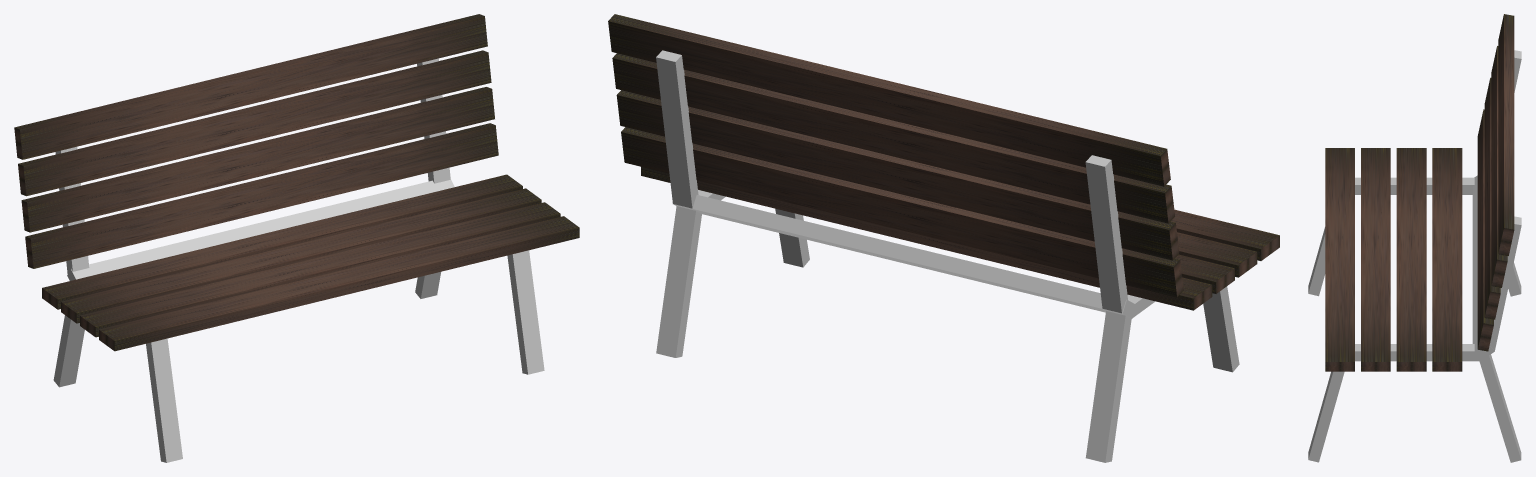
Rendered from bench2.dae.
The picture shows the model from 3 angles, left to right: view 1: azimuth 30°, elevation 25°; view 2: azimuth 150°, elevation 25°; view 3: azimuth 270°, elevation 25°; orthographic projection. The views are drawn at different scales.
Visible parts, largest first — view 1: Cube.001, Cube, Cube.006, Cube.007, Cube.010, Cube.008; view 2: Cube.001, Cube, Cube.006, Cube.005, Cube.003, Cube.009, Cube.008, Cube.007, Cube.010; view 3: Cube, Cube.001, Cube.009, Cube.010, Cube.006, Cube.005, Cube.007, Cube.004, Cube.002, Cube.008.
Part boxes in pixels (box(x1,y1,x2,y2)): Cube.001: box(14, 14, 498, 268); Cube: box(42, 174, 579, 351); Cube.006: box(67, 179, 454, 280); Cube.007: box(146, 338, 182, 462); Cube.010: box(507, 250, 544, 374); Cube.008: box(53, 315, 84, 387); Cube.001: box(608, 14, 1183, 297); Cube: box(641, 167, 1279, 310); Cube.006: box(672, 195, 1136, 318); Cube.005: box(656, 50, 698, 208); Cube.003: box(1085, 155, 1127, 313); Cube.009: box(656, 206, 701, 357); Cube.008: box(1085, 311, 1131, 462); Cube.007: box(1203, 286, 1239, 372); Cube.010: box(775, 208, 809, 267); Cube: box(1325, 148, 1462, 371); Cube.001: box(1477, 14, 1514, 351); Cube.009: box(1479, 354, 1521, 462); Cube.010: box(1308, 371, 1344, 462); Cube.006: box(1472, 175, 1494, 361); Cube.005: box(1489, 216, 1521, 350); Cube.007: box(1308, 227, 1325, 296); Cube.004: box(1355, 344, 1478, 361); Cube.002: box(1355, 177, 1474, 194); Cube.008: box(1508, 262, 1521, 296).
Bounding box in the file's own units: 3.06 × 1.29 × 1.7.
